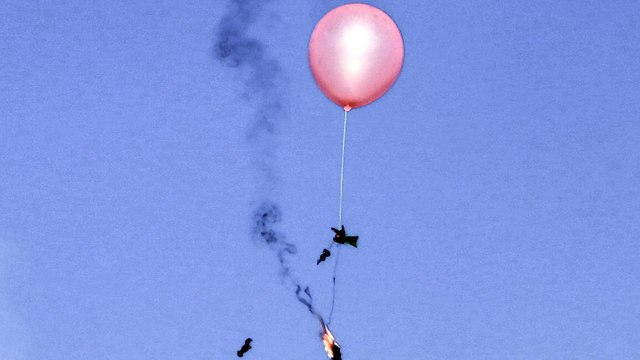Balloon: (307, 3, 404, 108)
